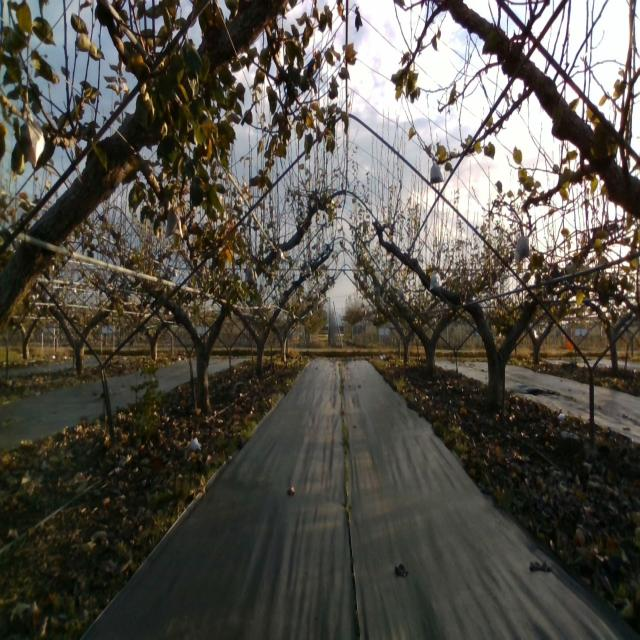pearbags: (18, 102, 46, 170), (165, 204, 183, 240), (516, 232, 530, 265), (431, 160, 444, 186), (428, 268, 443, 290), (245, 266, 255, 286)
